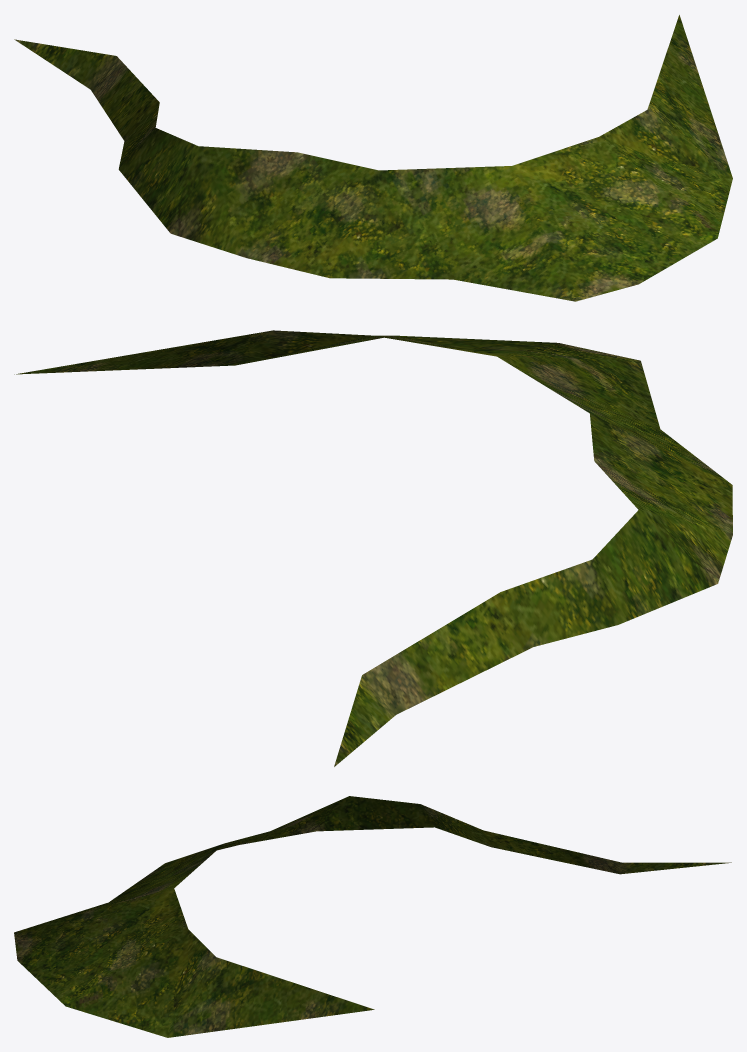
Rendered from OVERHILL_A_01_LINE67.fbx.
3 renders of one model, top to bottom at view 1: azimuth 30°, elevation 25°; view 2: azimuth 150°, elevation 25°; view 3: azimuth 270°, elevation 25°, orthographic. The views are drawn at different scales.
Visible parts, largest first — view 1: OVERHILL_A_01_LINE67; view 2: OVERHILL_A_01_LINE67; view 3: OVERHILL_A_01_LINE67.
Part boxes in pixels (<box>): OVERHILL_A_01_LINE67: <box>14,15,732,301</box>; OVERHILL_A_01_LINE67: <box>14,330,732,766</box>; OVERHILL_A_01_LINE67: <box>14,796,731,1037</box>.
Bounding box in the file's own units: 36695 × 4326 × 47641.
Materials: 1 (1 with a texture image).
